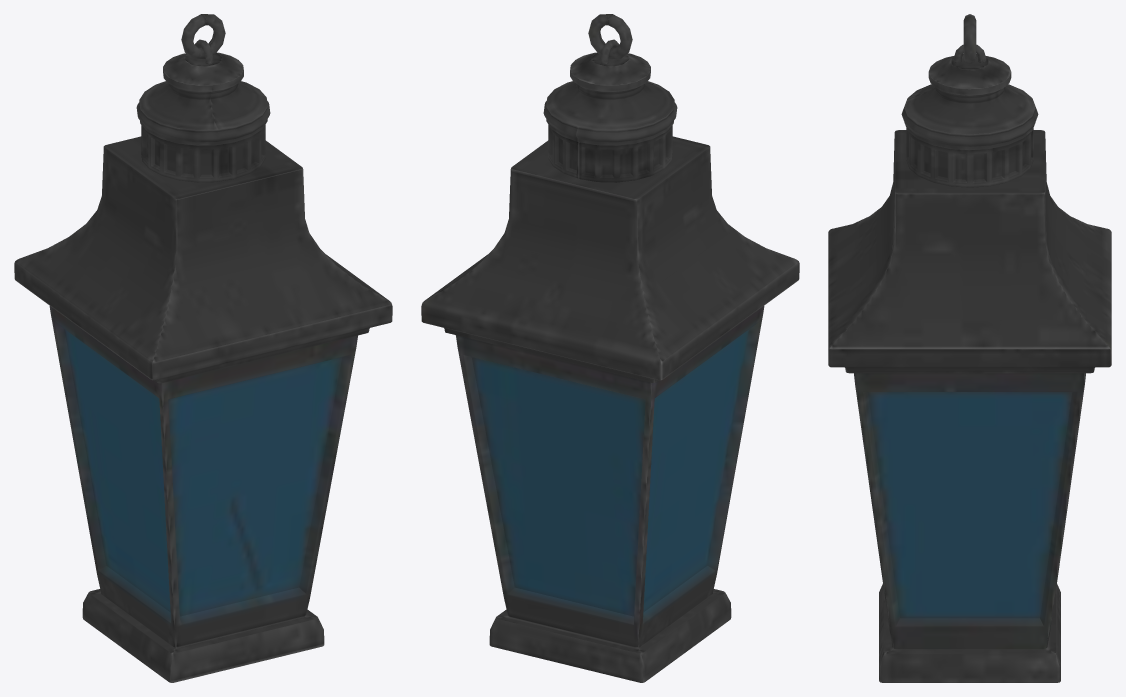
Rendered from lantern-0-far.glb.
3 views of the same model, side by side, from view 1: azimuth 30°, elevation 25°; view 2: azimuth 150°, elevation 25°; view 3: azimuth 270°, elevation 25° (orthographic).
Parts seen in each view (by area): view 1: LanternPole_Lantern; view 2: LanternPole_Lantern; view 3: LanternPole_Lantern.
Part boxes in pixels (<box>): LanternPole_Lantern: <box>14,14,392,682</box>; LanternPole_Lantern: <box>421,14,799,682</box>; LanternPole_Lantern: <box>828,14,1111,682</box>.
Bounding box in the file's own units: 0.22 × 0.5381 × 0.22.
Materials: 1 (1 with a texture image).
